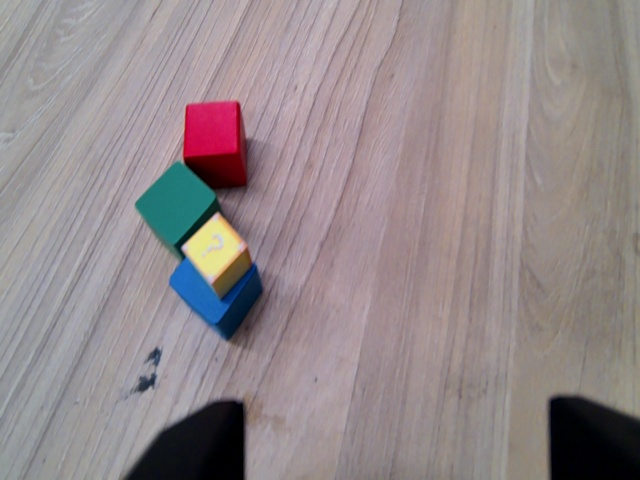lucky: (178, 210, 257, 302)
